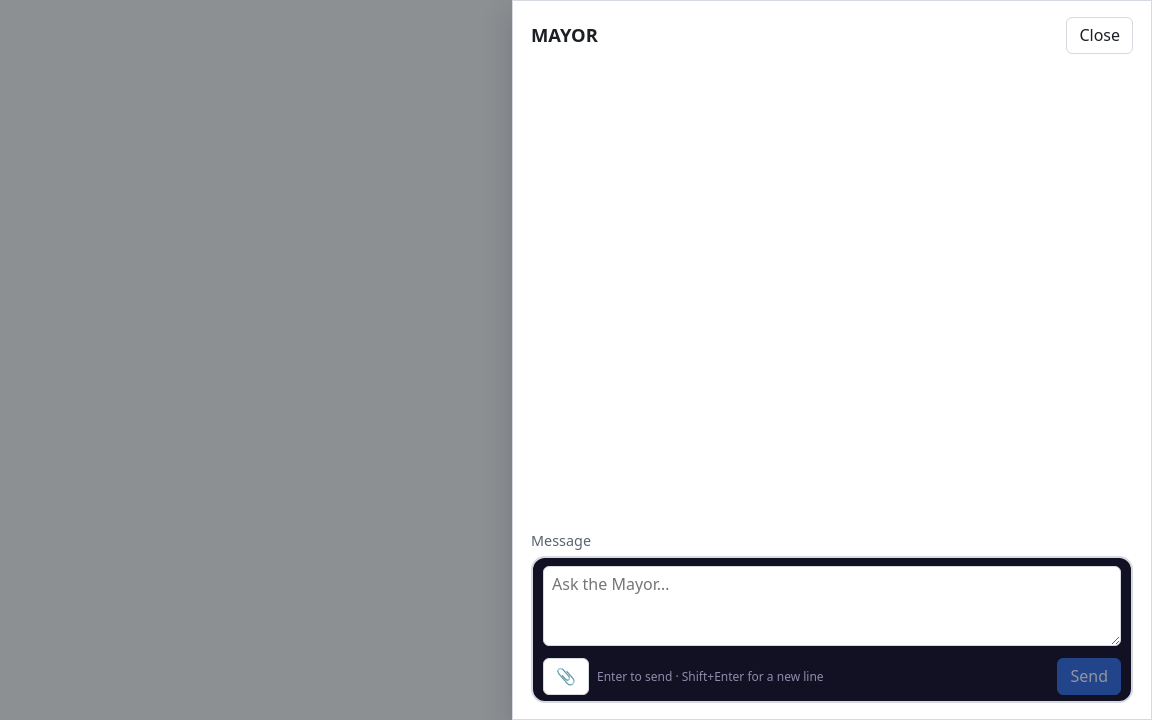
Test case: sending shows the user message, then the returned transcript
Type "ask around" into the text box labelled "Message" at (832, 606), box 543,566 -> 1121,646
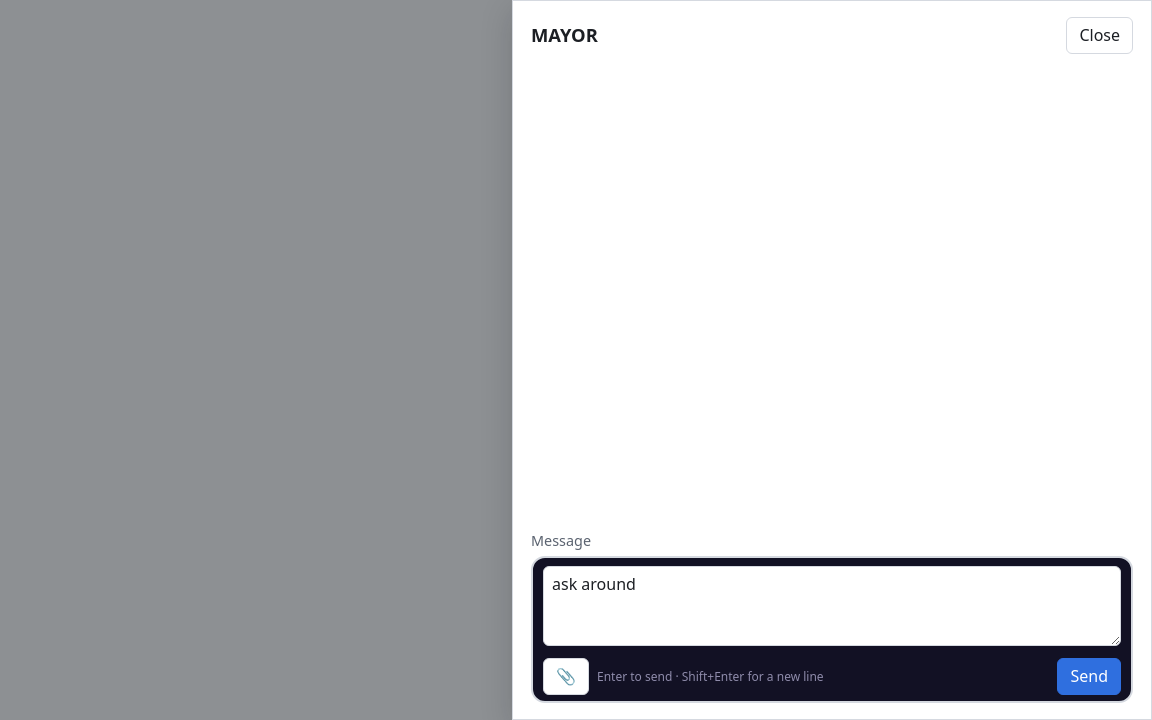
Click the button "Send" at (1089, 676), box 1058,658 -> 1121,695
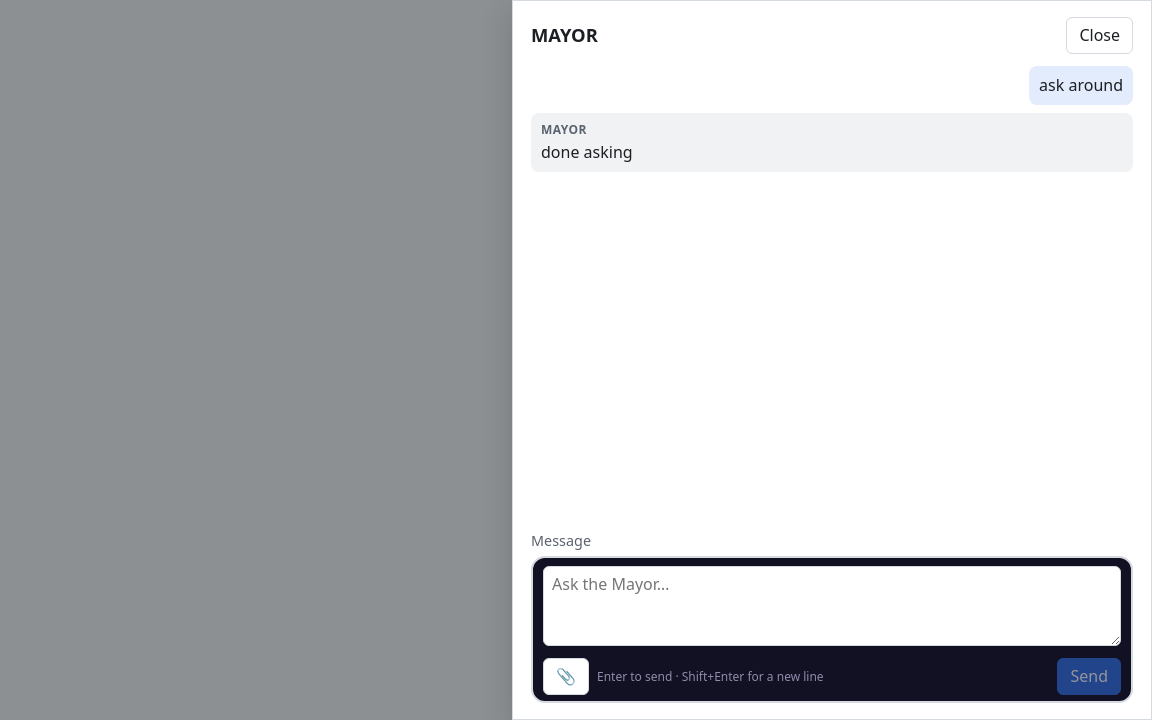
Now the text "done asking" is shown, box 541,141 -> 633,163
Now the text "ask around" is shown once, box 1039,74 -> 1123,96
